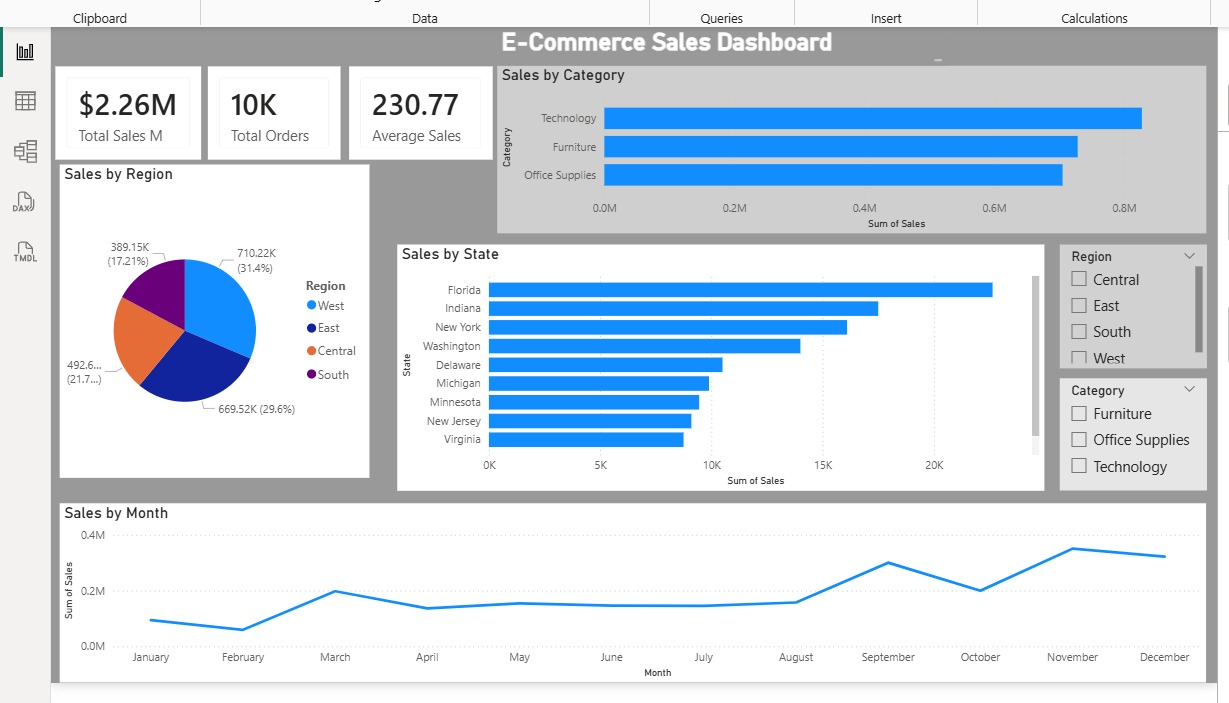

The dashboard page shown, as its layout file describes it:
{"tool":"powerbi","page":{"name":"Page 1","canvas":[1280,720],"ordinal":0},"visuals":[{"type":"cardVisual","fields":{"Data":["superstore_sales_dataset csv.Total Sales M"]},"box":[0,38.6,170,112.9],"z":0},{"type":"cardVisual","fields":{"Data":["superstore_sales_dataset csv.Total Orders"]},"box":[167.1,38.6,155.7,112.9],"z":1},{"type":"cardVisual","fields":{"Data":["superstore_sales_dataset csv.Average Sales"]},"box":[322.9,38.6,167.1,112.9],"z":2},{"type":"clusteredBarChart","title":"Sales by Category","fields":{"Category":["superstore_sales_dataset csv.Category"],"Y":["Sum(superstore_sales_dataset csv.Sales)"]},"box":[490,42.9,778.6,184.3],"z":3},{"type":"pieChart","title":"Sales by Region","fields":{"Category":["superstore_sales_dataset csv.Region"],"Y":["Sum(superstore_sales_dataset csv.Sales)"]},"box":[10,151.4,340,344.3],"z":4},{"type":"barChart","title":"Sales by State","fields":{"Category":["superstore_sales_dataset csv.State"],"Y":["Sum(superstore_sales_dataset csv.Sales)"]},"box":[380,238.6,710,270],"z":5},{"type":"lineChart","title":"Sales by Month","fields":{"Category":["superstore_sales_dataset csv.Order Date.Variation.Date Hierarchy.Month"],"Y":["Sum(superstore_sales_dataset csv.Sales)"]},"box":[10,522.9,1258.6,197.1],"z":6},{"type":"slicer","fields":{"Values":["superstore_sales_dataset csv.Region"]},"box":[1107.1,238.6,161.4,135.7],"z":7},{"type":"slicer","fields":{"Values":["superstore_sales_dataset csv.Category"]},"box":[1107.1,385.7,161.4,122.9],"z":8},{"type":"textbox","title":"E-Commerce Sales Dashboard","box":[490,0,435.7,42.9],"z":9}]}

Visuals, with their boxes in screenshot pixels (x1, y1, x2, y2):
cardVisual - superstore_sales_dataset csv.Total Sales M: <region>45, 58, 200, 161</region>
cardVisual - superstore_sales_dataset csv.Total Orders: <region>197, 58, 340, 161</region>
cardVisual - superstore_sales_dataset csv.Average Sales: <region>340, 58, 492, 161</region>
"Sales by Category" clusteredBarChart: <region>492, 62, 1203, 230</region>
"Sales by Region" pieChart: <region>54, 161, 364, 475</region>
"Sales by State" barChart: <region>392, 240, 1040, 487</region>
"Sales by Month" lineChart: <region>54, 500, 1203, 680</region>
slicer - superstore_sales_dataset csv.Region: <region>1056, 240, 1203, 364</region>
slicer - superstore_sales_dataset csv.Category: <region>1056, 375, 1203, 487</region>
"E-Commerce Sales Dashboard" textbox: <region>492, 22, 890, 62</region>
